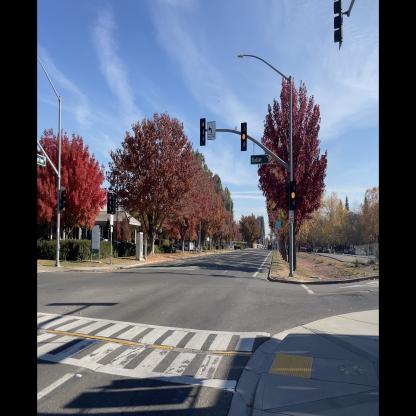left-red: (199, 116, 206, 148), (106, 191, 113, 215)
red: (60, 183, 67, 213)
yellow: (289, 179, 297, 212), (240, 121, 248, 152)
